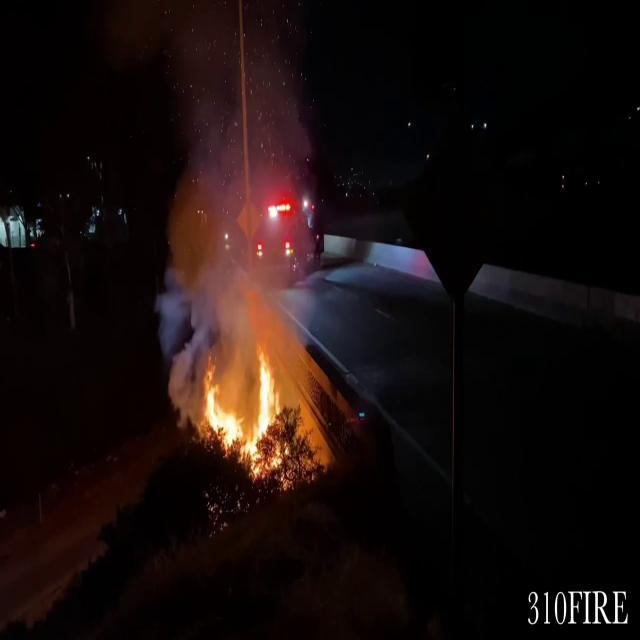Fire: (245, 346, 285, 468), (201, 370, 240, 458)
Smoke: (155, 13, 315, 360)
